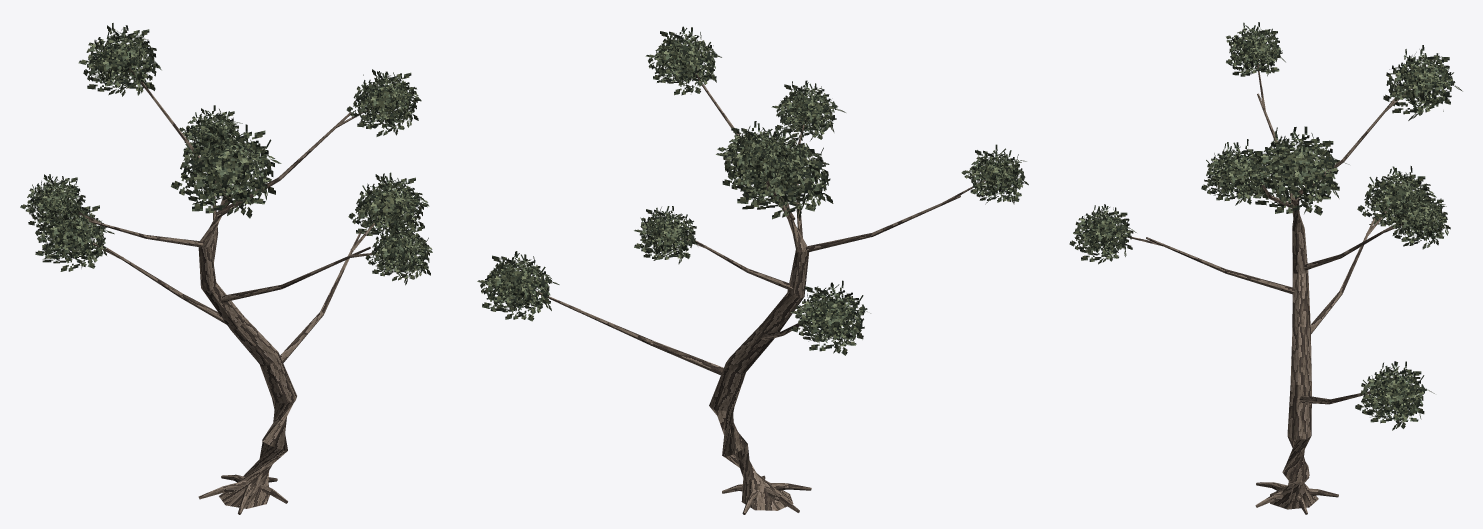
File: TREE_Sparse_A.glb
3 renders of one model, left to right at view 1: azimuth 30°, elevation 25°; view 2: azimuth 150°, elevation 25°; view 3: azimuth 270°, elevation 25°, orthographic. The views are drawn at different scales.
Visible parts, largest first — view 1: TREE_Sparse_A__Card, TREE_Sparse_A__Bark, TREE_Sparse_A__Foliage; view 2: TREE_Sparse_A__Card, TREE_Sparse_A__Bark, TREE_Sparse_A__Foliage; view 3: TREE_Sparse_A__Card, TREE_Sparse_A__Bark, TREE_Sparse_A__Foliage.
Part boxes in pixels (x1,y1,x2,y2): TREE_Sparse_A__Card: (20,23,432,285); TREE_Sparse_A__Bark: (67,68,377,514); TREE_Sparse_A__Foliage: (42,46,412,261); TREE_Sparse_A__Card: (477,26,1028,355); TREE_Sparse_A__Bark: (536,73,985,514); TREE_Sparse_A__Foliage: (501,45,1011,326); TREE_Sparse_A__Card: (1069,22,1462,430); TREE_Sparse_A__Bark: (1122,64,1411,514); TREE_Sparse_A__Foliage: (1089,40,1434,402).
Bounding box in the file's own units: 9.99 × 8.73 × 7.5.
3 materials, 3 textured.
